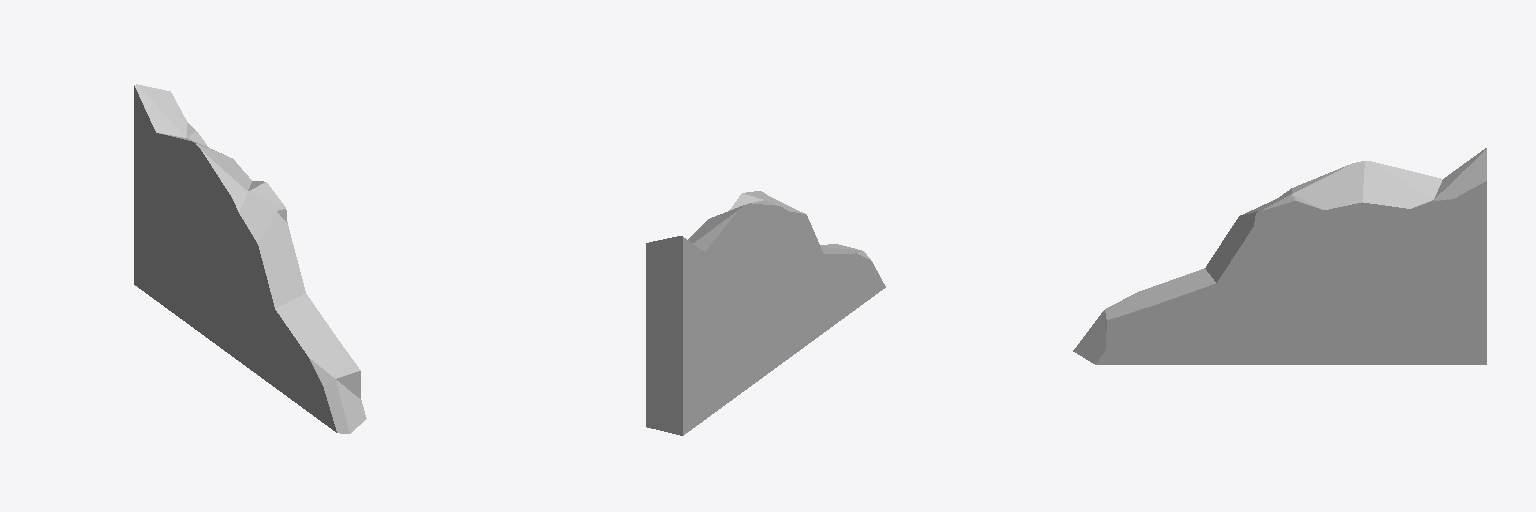
File: broken_wall_01.obj
The picture shows the model from 3 angles: view 1: azimuth 30°, elevation 25°; view 2: azimuth 150°, elevation 25°; view 3: azimuth 270°, elevation 25°; orthographic projection.
Parts seen in each view (by area): view 1: Cube.006_Cube.011; view 2: Cube.006_Cube.011; view 3: Cube.006_Cube.011.
Boxes of the visible parts, box(x1,y1,x2,y2) form: Cube.006_Cube.011: box(134, 84, 366, 433); Cube.006_Cube.011: box(646, 191, 885, 435); Cube.006_Cube.011: box(1073, 148, 1486, 364).
Size of the model in its own units: 0.5 by 2.6 by 4.88.